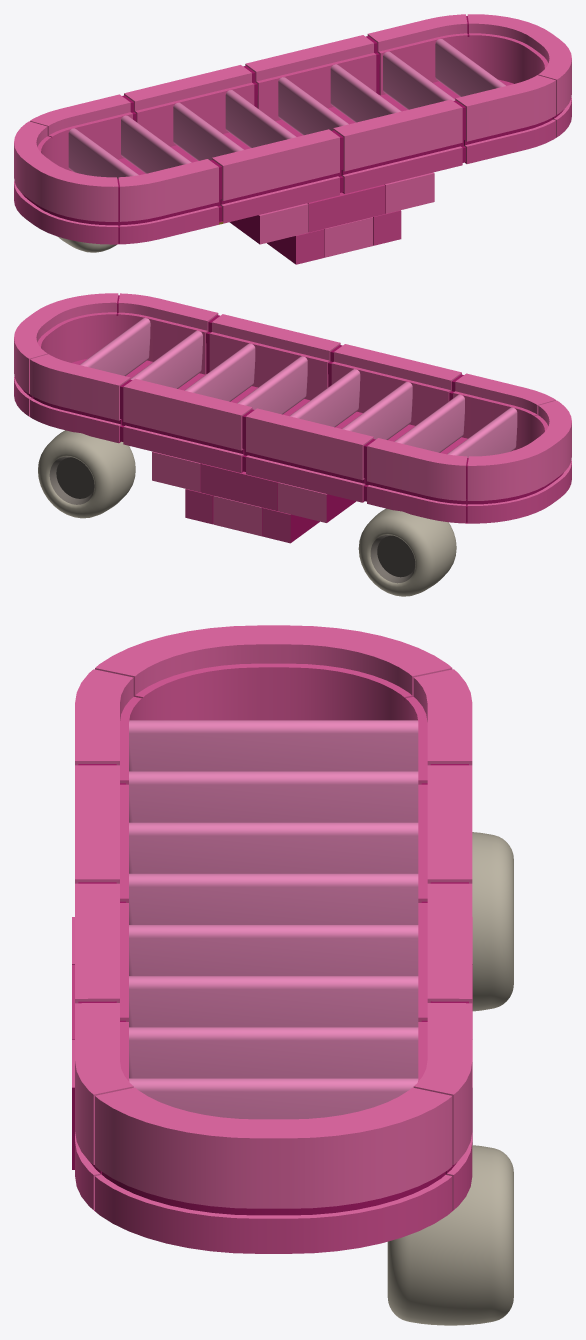
File: PinkSlotTray.fbx
3 views of the same model, one above another, from view 1: azimuth 30°, elevation 25°; view 2: azimuth 150°, elevation 25°; view 3: azimuth 270°, elevation 25° (orthographic). The views are drawn at different scales.
Visible parts, largest first — view 1: PinkSlotTray, Wheels; view 2: PinkSlotTray, Wheels; view 3: PinkSlotTray, Wheels.
Part boxes in pixels (x1,y1,x2,y2): PinkSlotTray: [14, 14, 571, 264]; Wheels: [58, 237, 117, 252]; PinkSlotTray: [14, 293, 571, 543]; Wheels: [38, 430, 456, 596]; PinkSlotTray: [72, 625, 472, 1253]; Wheels: [387, 832, 513, 1325].
Bounding box in the file's own units: 1068 × 269 × 389.
Materials: 1 (1 with a texture image).
